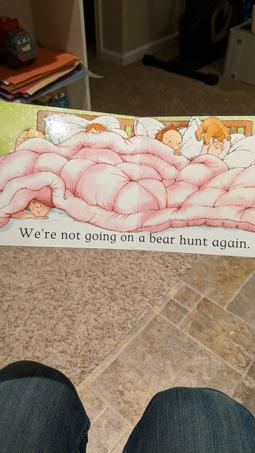text block: (13, 219, 254, 254)
